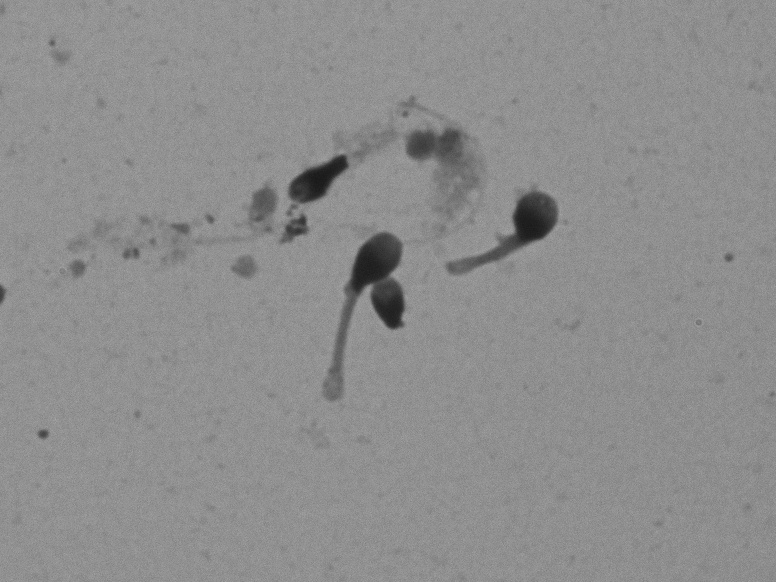Abnormal: (240, 88, 427, 220), (438, 155, 592, 308), (312, 226, 425, 433)
